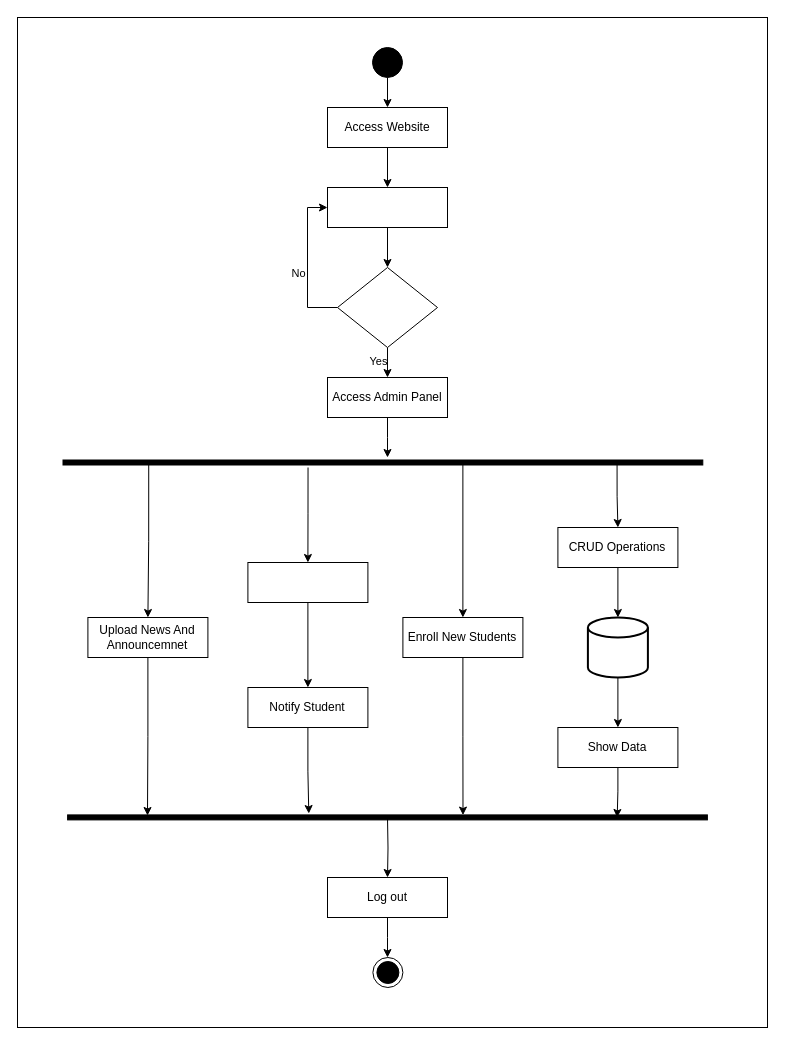
Image size: 785x1045. Some labels were removed from this diagram. The centre of each missing label's shape, as x and y in pixels:
Check Doucments Validation: the point at 307,582
isValid?: the point at 387,307
Log In: the point at 387,207
